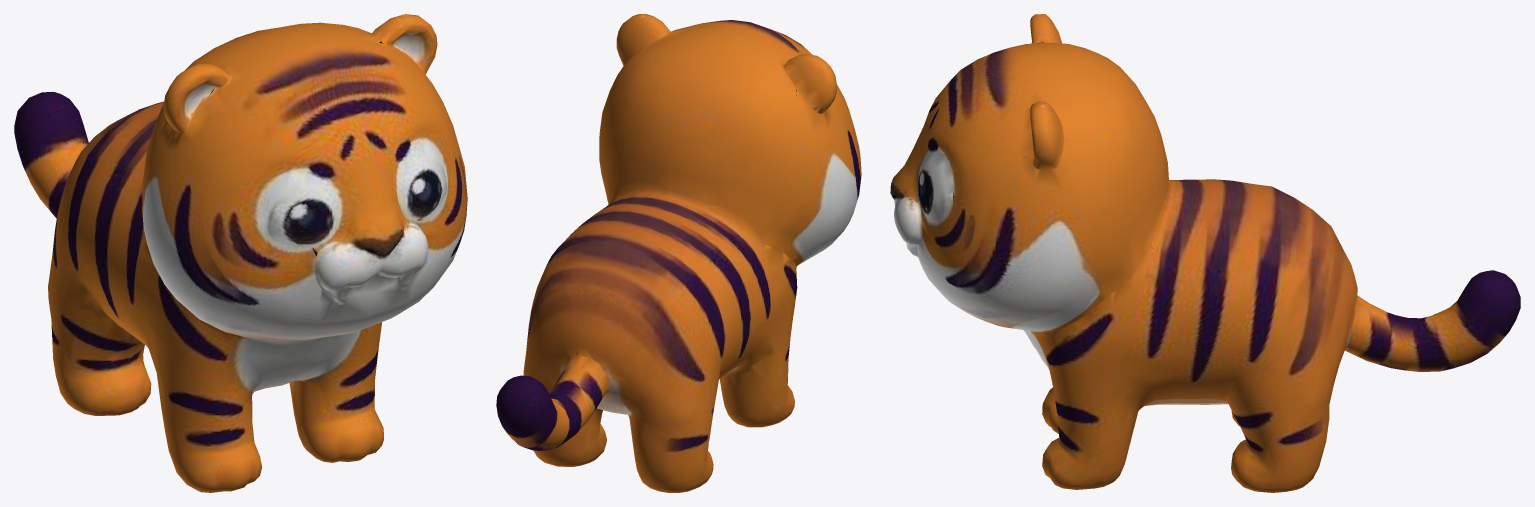
Rendered from tiger_meshy.glb.
3 renders of one model, left to right at view 1: azimuth 30°, elevation 25°; view 2: azimuth 150°, elevation 25°; view 3: azimuth 270°, elevation 25°, orthographic. The views are drawn at different scales.
Visible parts, largest first — view 1: Mesh_0.001; view 2: Mesh_0.001; view 3: Mesh_0.001.
Part boxes in pixels (left/top/right/bottom): Mesh_0.001: left=14, top=14, right=467, bottom=492; Mesh_0.001: left=496, top=14, right=861, bottom=492; Mesh_0.001: left=890, top=14, right=1520, bottom=492.
Size of the model in its own units: 0.4749 by 0.6912 by 1.
1 material, 1 textured.
